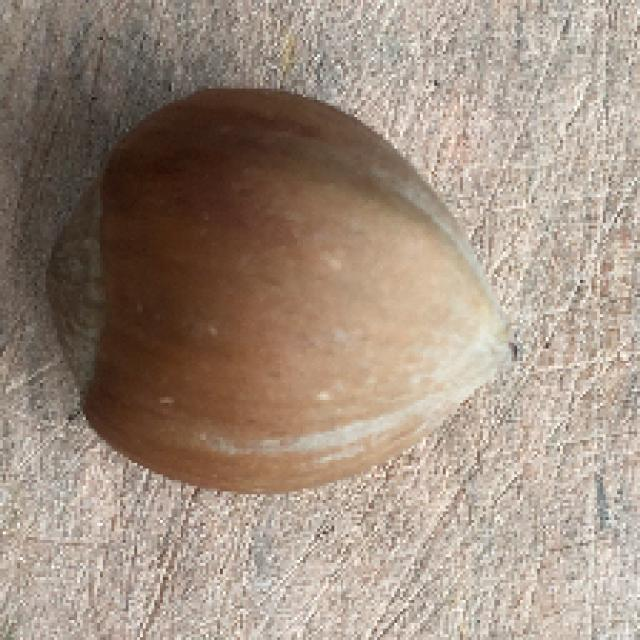DamagedHazelnut: (42, 93, 521, 488)
